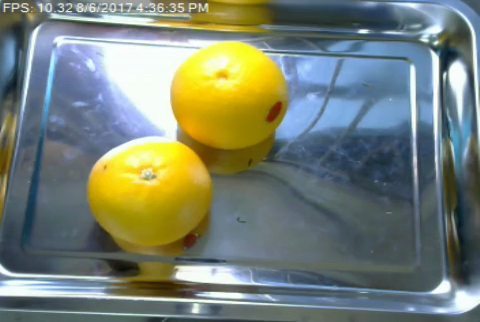Orange: (85, 135, 214, 247), (171, 41, 291, 149)
